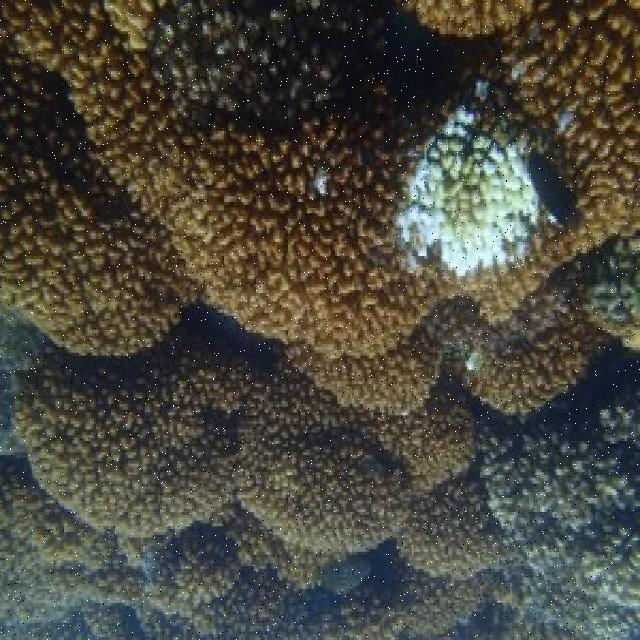Bleached: (494, 409, 640, 640), (397, 110, 544, 277)
Healthy: (1, 2, 640, 358), (1, 67, 201, 357), (20, 334, 247, 540), (237, 367, 479, 559), (548, 1, 640, 271), (1, 465, 141, 640), (430, 279, 604, 415), (140, 541, 339, 640), (1, 467, 142, 576), (548, 113, 640, 275), (506, 1, 640, 111), (288, 334, 444, 422), (396, 473, 509, 585), (230, 506, 355, 595), (396, 563, 517, 636), (403, 1, 550, 37), (177, 543, 239, 608), (337, 582, 404, 640)
